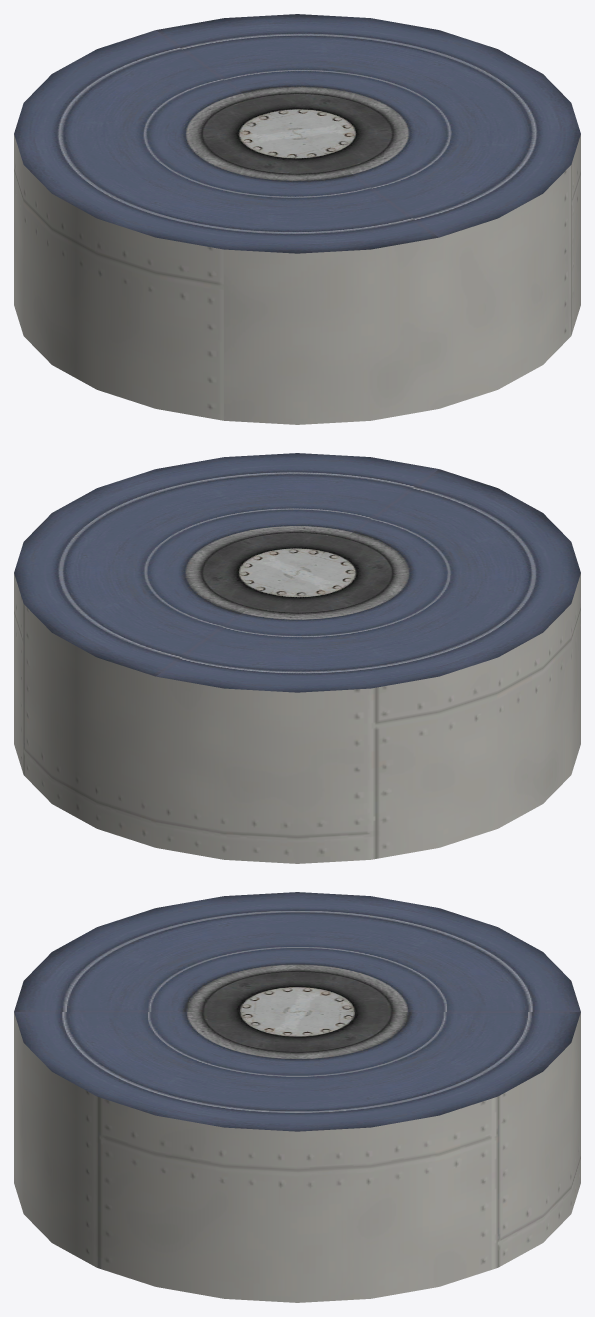
Rendered from TITAN_Tank_Core.obj.
3 views of the same model, one above another, from view 1: azimuth 30°, elevation 25°; view 2: azimuth 150°, elevation 25°; view 3: azimuth 270°, elevation 25° (orthographic).
Parts seen in each view (by area): view 1: Tank; view 2: Tank; view 3: Tank.
Boxes of the visible parts, x1,y1,x2,y2 form: Tank: [14, 14, 580, 424]; Tank: [14, 453, 580, 863]; Tank: [14, 892, 580, 1302].
Size of the model in its own units: 3 by 1 by 3.
